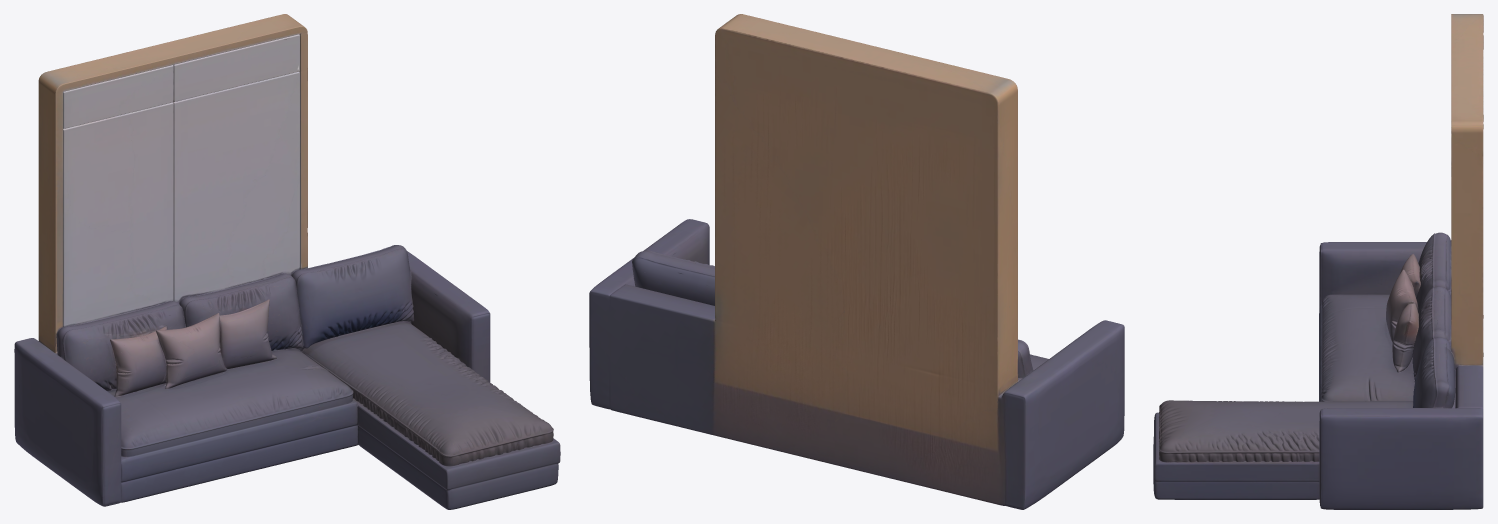
3 views of the same model, side by side, from view 1: azimuth 30°, elevation 25°; view 2: azimuth 150°, elevation 25°; view 3: azimuth 270°, elevation 25° (orthographic). The views are drawn at different scales.
Parts seen in each view (by area): view 1: texture_pbr_v128; view 2: texture_pbr_v128; view 3: texture_pbr_v128.
Boxes of the visible parts, x1,y1,x2,y2 form: texture_pbr_v128: [14, 14, 560, 509]; texture_pbr_v128: [589, 14, 1124, 509]; texture_pbr_v128: [1153, 14, 1483, 509].
Size of the model in its own units: 0.7812 by 0.6929 by 0.6171.
Materials: 1 (1 with a texture image).
